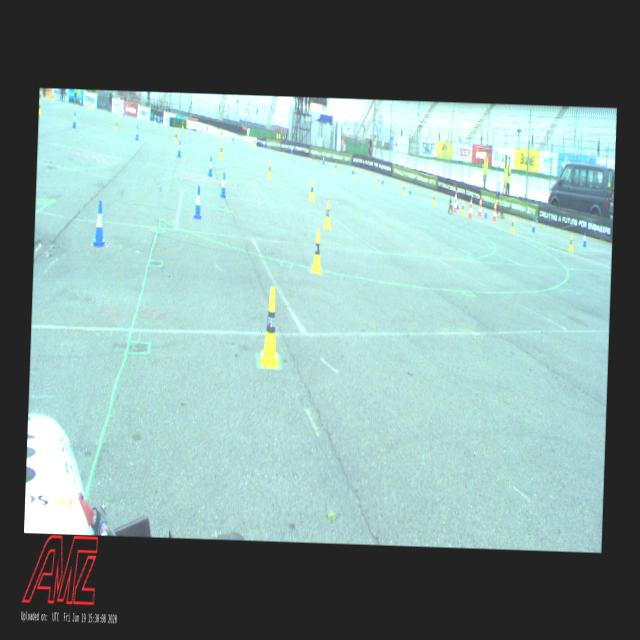blue_cone: (92, 200, 108, 246), (193, 185, 202, 218), (220, 172, 226, 198), (208, 156, 213, 176), (176, 140, 182, 156), (72, 111, 76, 128), (582, 231, 586, 247), (135, 125, 139, 140), (484, 205, 487, 218), (532, 218, 534, 232), (322, 154, 324, 164), (382, 174, 384, 184), (352, 164, 354, 173)
large_orange_cone: (452, 190, 457, 212), (492, 200, 497, 220), (468, 197, 472, 218), (478, 198, 482, 216)
yellow_cone: (260, 286, 281, 367), (312, 230, 322, 272), (324, 200, 331, 228), (568, 233, 574, 250), (309, 180, 314, 200), (267, 160, 271, 178), (510, 216, 514, 232), (432, 192, 435, 205), (376, 174, 379, 187), (114, 118, 117, 130), (174, 130, 177, 142), (461, 202, 464, 214), (220, 143, 222, 157), (402, 182, 404, 195), (334, 162, 336, 172)
